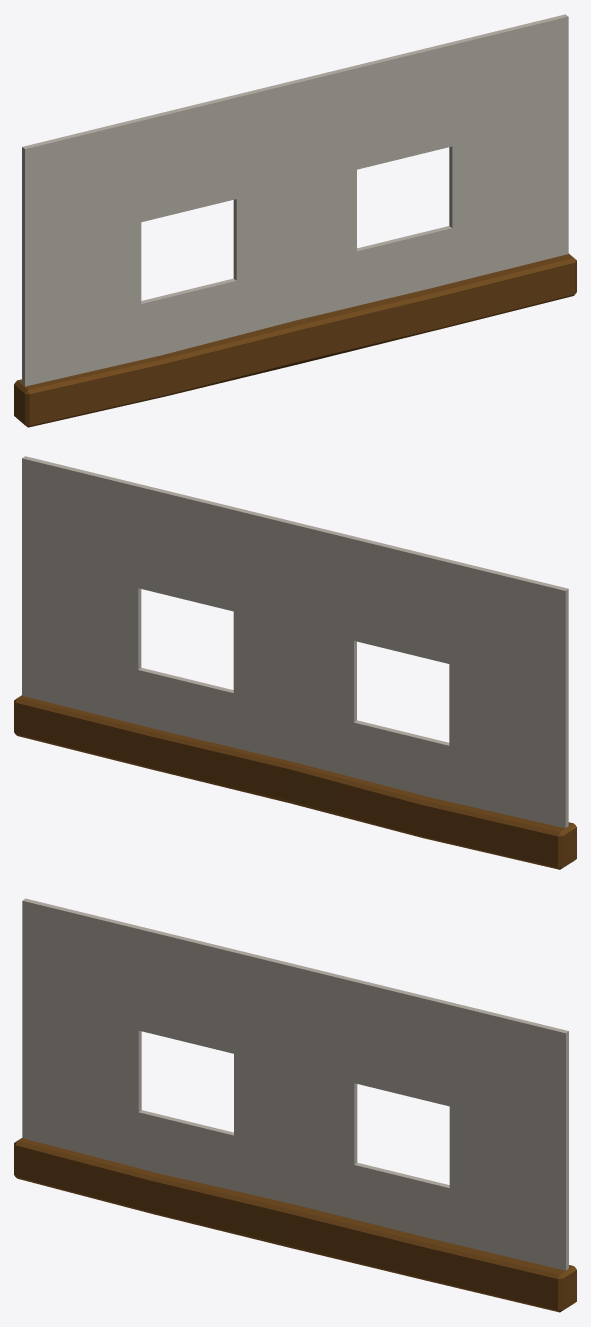
File: Wall_11_Window.fbx
3 renders of one model, top to bottom at view 1: azimuth 30°, elevation 25°; view 2: azimuth 150°, elevation 25°; view 3: azimuth 330°, elevation 25°, orthographic.
Visible parts, largest first — view 1: Wall_11_Window; view 2: Wall_11_Window; view 3: Wall_11_Window.
Boxes of the visible parts, <box> form: Wall_11_Window: <box>14,14,576,427</box>; Wall_11_Window: <box>14,456,576,869</box>; Wall_11_Window: <box>14,898,576,1312</box>.
Size of the model in its own units: 584 by 280 by 32.29.
